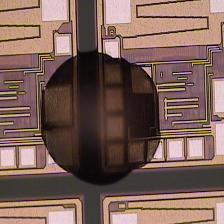PO CONTAMINATION: (34, 47, 169, 191)
